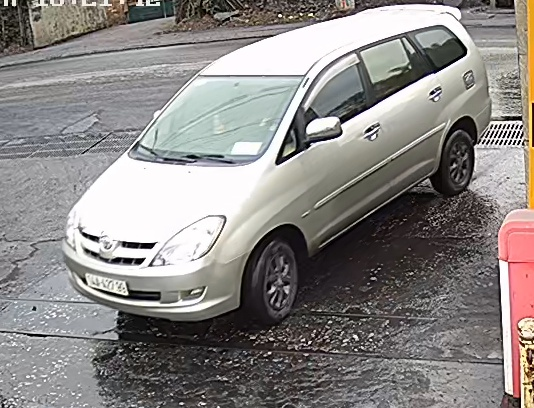vehicle plate: (77, 266, 135, 302)
